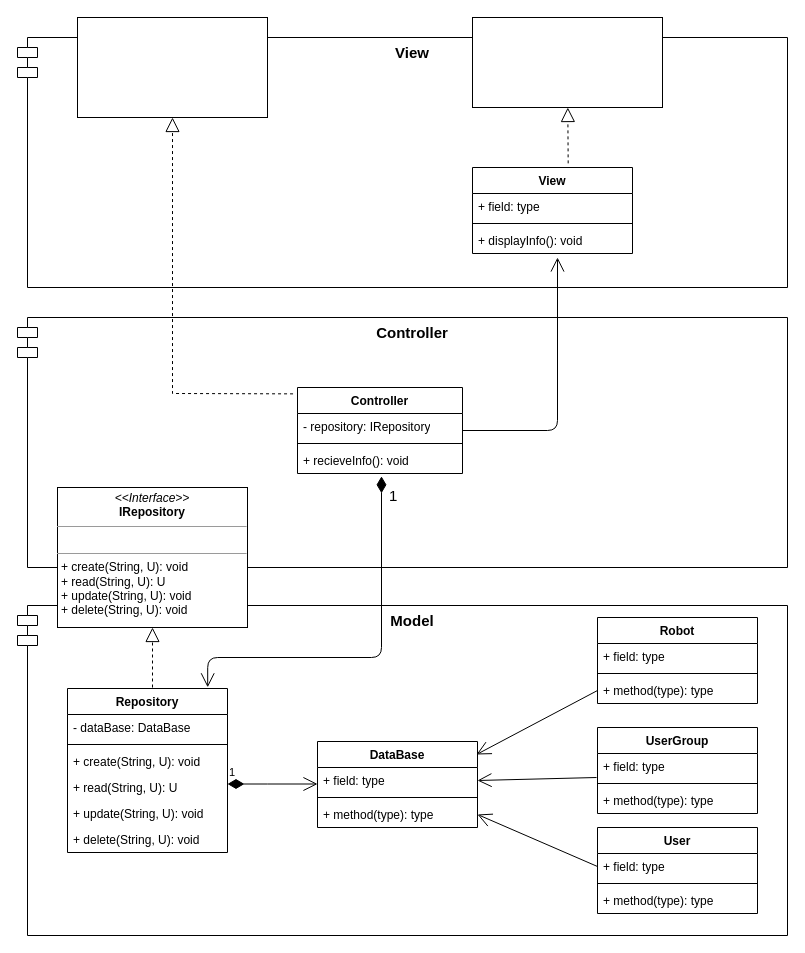
Some shapes in this 805 by 953 pixel diagram are drawn without their labels. Each missing label, with the centre of its shape:
"<<Interface>> Request + recieveInfo(): void" belongs at [172,67].
"<<Interface>> Response + displayInfo(): void" belongs at [567,62].
